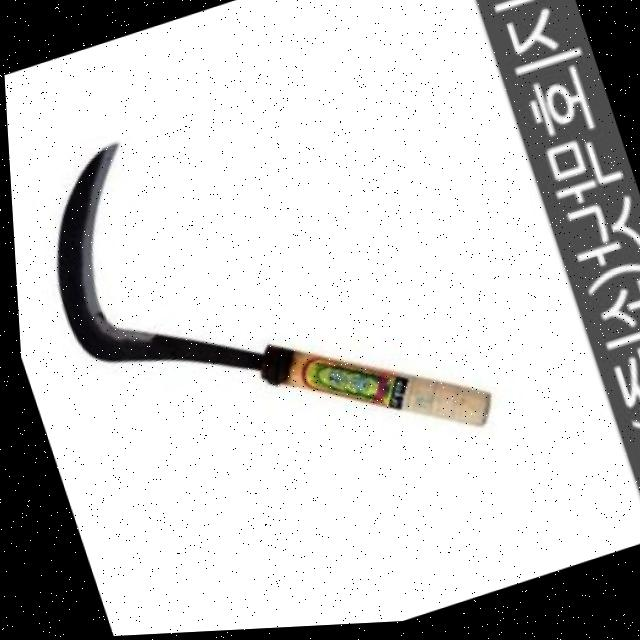sickle: (2, 18, 557, 590)
